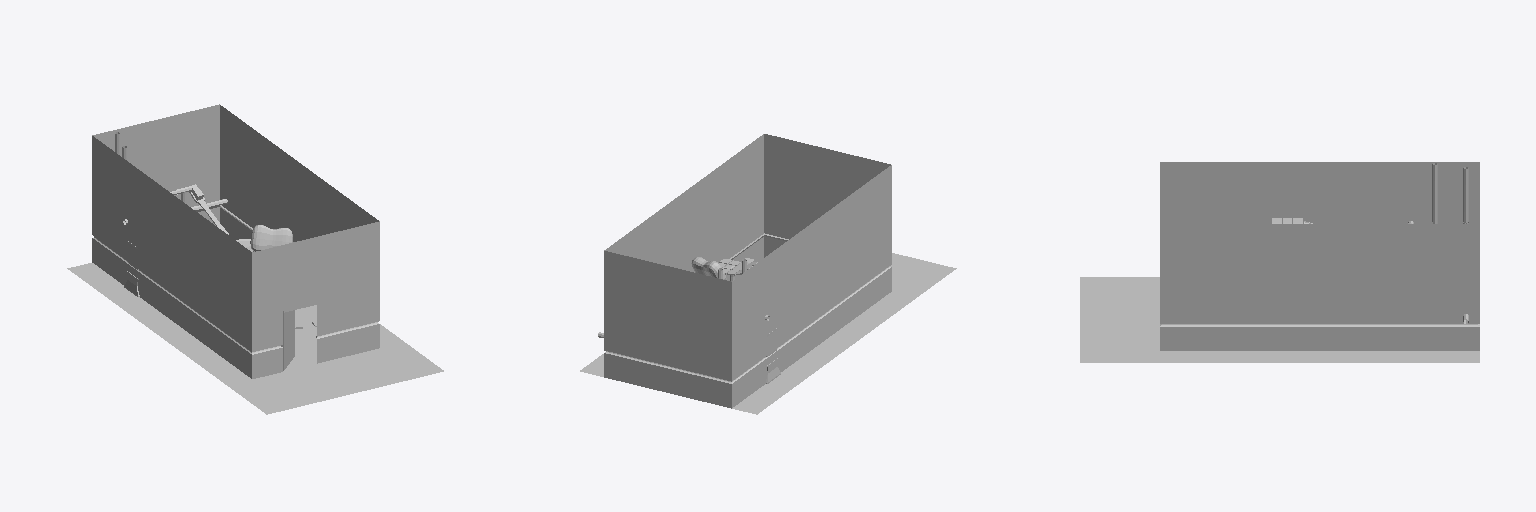
The model's file is level_v7.obj.
The picture shows the model from 3 angles: view 1: azimuth 30°, elevation 25°; view 2: azimuth 150°, elevation 25°; view 3: azimuth 270°, elevation 25°; orthographic projection.
Parts seen in each view (by area): view 1: spiral; view 2: spiral; view 3: spiral.
Part boxes in pixels (x1,y1,x2,y2): spiral: (67, 104, 443, 414); spiral: (580, 134, 956, 414); spiral: (1080, 162, 1479, 362).
Bounding box in the file's own units: 42.52 × 30.01 × 82.67.